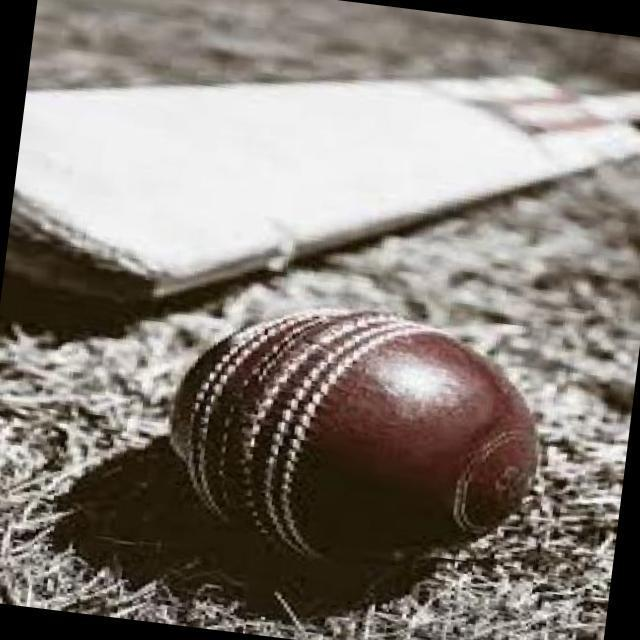-: (169, 292, 556, 598)
